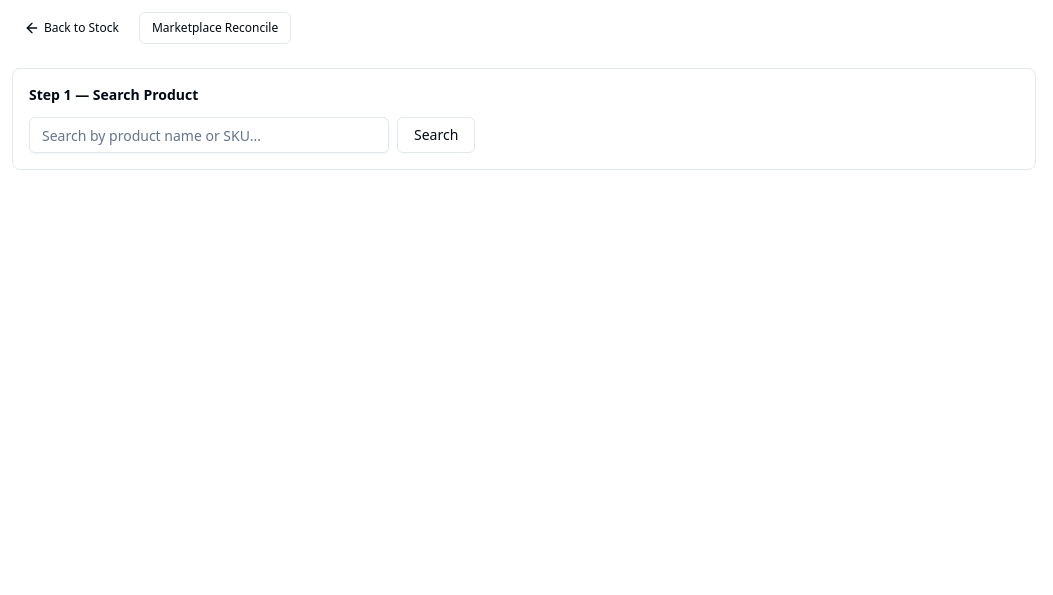
Scenario: clicking "Add" on a result adds a row to the table
In the field with placeholder "Search by product name or SKU...": (209, 135) [29, 117, 389, 153], type "Shirt"
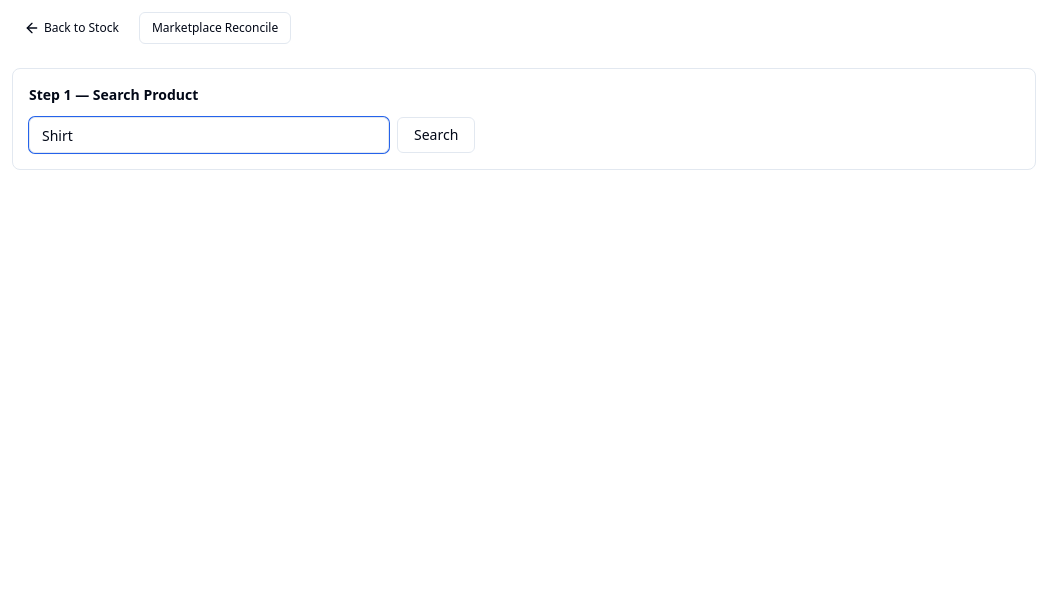
Press Enter
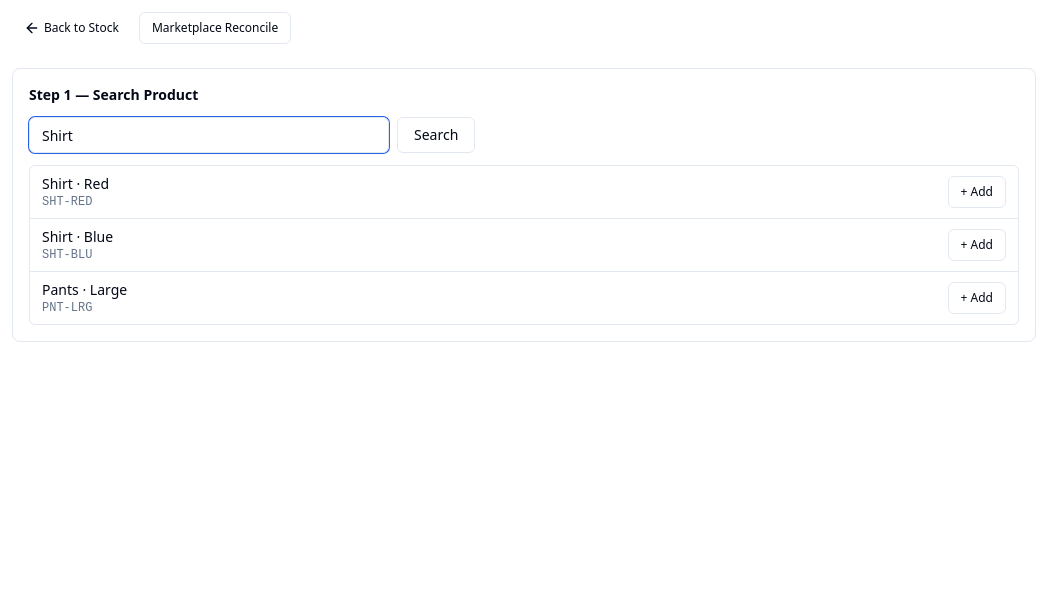
Click the button "+ Add" in the row of "SHT-RED": (977, 192) [948, 176, 1006, 208]
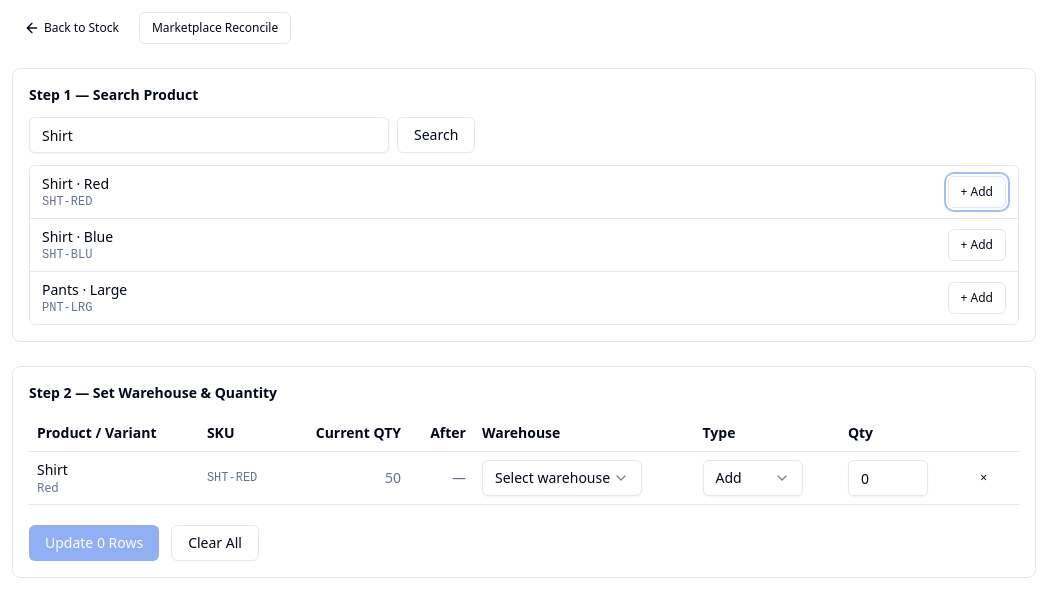
Expected: the heading "Step 2 — Set Warehouse & Quantity" is shown, [29, 383, 277, 402]
Expected: the text "Shirt" is shown, [37, 460, 68, 479]
